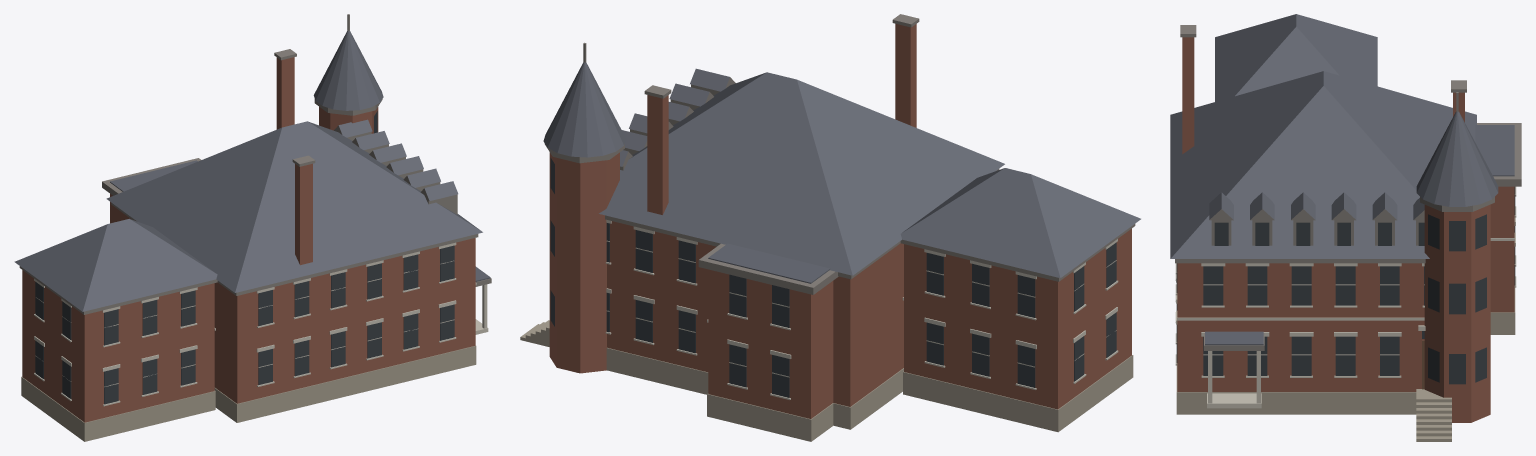
File: house_1918_prairie__draft_1904.glb
3 views of the same model, side by side, from view 1: azimuth 30°, elevation 25°; view 2: azimuth 150°, elevation 25°; view 3: azimuth 270°, elevation 25° (orthographic). The views are drawn at different scales.
Visible parts, largest first — view 1: house_1918_prairie__draft_1904; view 2: house_1918_prairie__draft_1904; view 3: house_1918_prairie__draft_1904.
Part boxes in pixels (x1,y1,x2,y2): house_1918_prairie__draft_1904: (14,14,491,441); house_1918_prairie__draft_1904: (520,14,1140,441); house_1918_prairie__draft_1904: (1170,14,1521,441).
Size of the model in its own units: 29.4 by 17.6 by 17.7.
